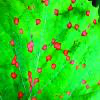grape leaf black rot: (1, 1, 99, 99)
